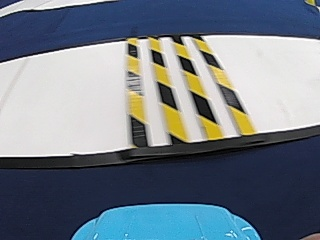bump: (119, 45, 252, 139)
